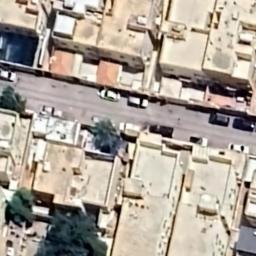SUV: (39, 104, 64, 120), (126, 94, 150, 110), (188, 134, 210, 148)
sedan: (86, 112, 116, 128), (232, 116, 256, 134), (99, 87, 123, 104), (228, 140, 250, 156), (0, 69, 18, 83)
van: (148, 122, 176, 140), (208, 112, 232, 128), (116, 120, 140, 134)
